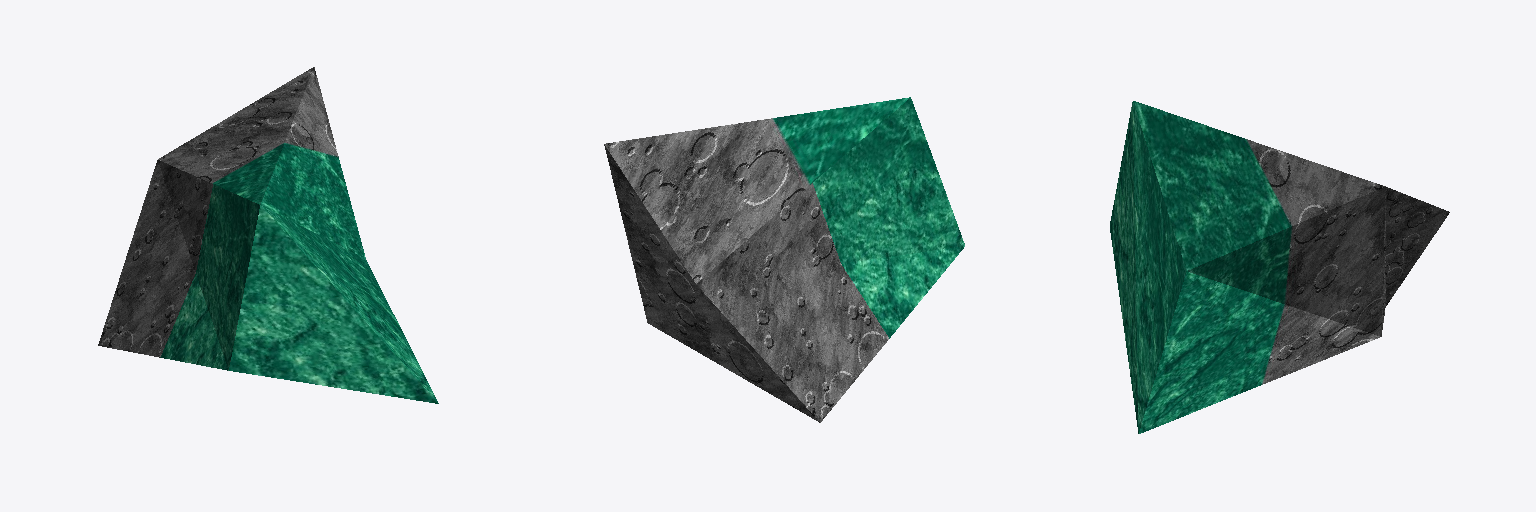
3 views of the same model, side by side, from view 1: azimuth 30°, elevation 25°; view 2: azimuth 150°, elevation 25°; view 3: azimuth 270°, elevation 25° (orthographic).
Visible parts, largest first — view 1: Cube_Cube.001; view 2: Cube_Cube.001; view 3: Cube_Cube.001.
Part boxes in pixels (left/top/right/bottom): Cube_Cube.001: left=98, top=67, right=438, bottom=403; Cube_Cube.001: left=604, top=97, right=964, bottom=422; Cube_Cube.001: left=1110, top=101, right=1449, bottom=433.
Size of the model in its own units: 2.08 by 2.19 by 2.73.
Materials: 1 (1 with a texture image).